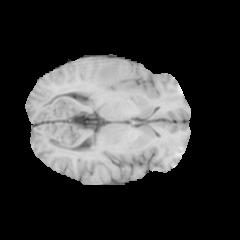glioma: (76, 57, 137, 102)
